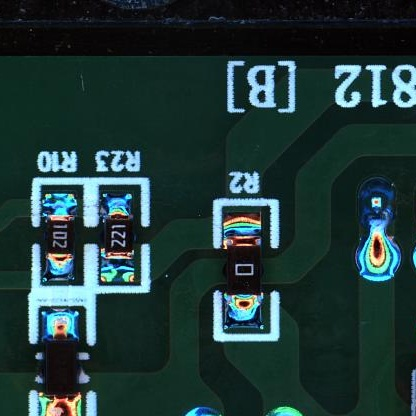spot: (356, 174, 397, 229)
